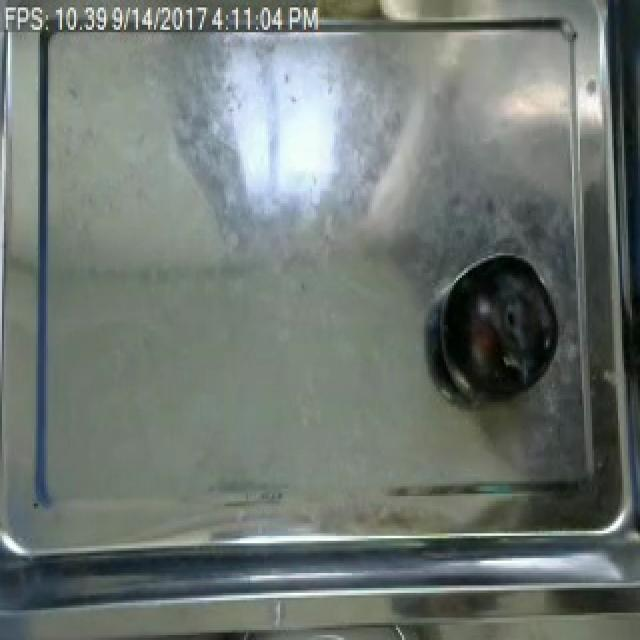Fruit: (436, 250, 560, 394)
